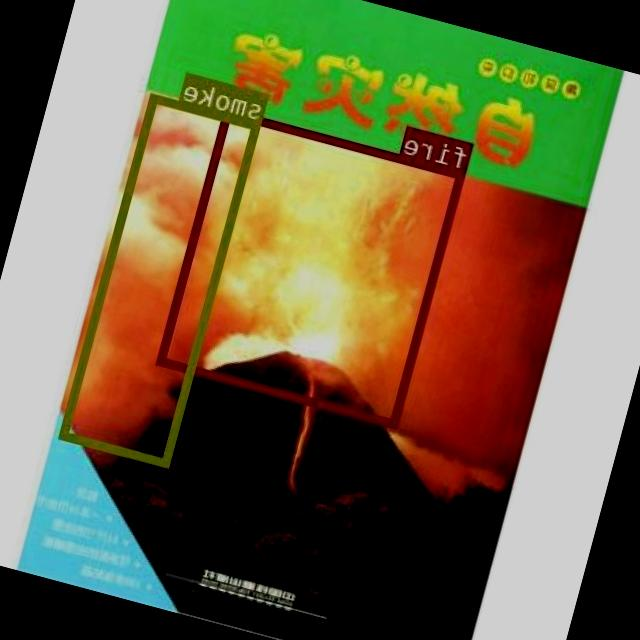fire: (158, 106, 467, 428)
smoke: (60, 93, 262, 467)
